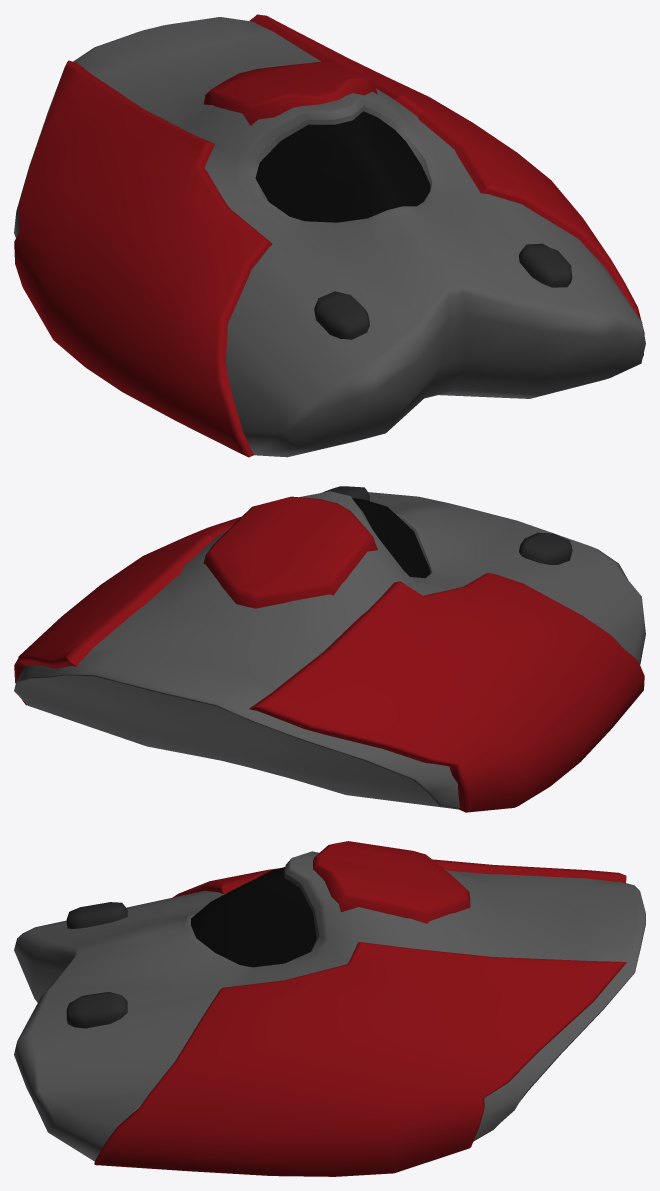
Rendered from Ship_enemy_09_Hull.fbx.
The picture shows the model from 3 angles, top to bottom: view 1: azimuth 30°, elevation 25°; view 2: azimuth 150°, elevation 25°; view 3: azimuth 270°, elevation 25°; orthographic projection. The views are drawn at different scales.
Parts seen in each view (by area): view 1: Ship_enemy_09_Hull; view 2: Ship_enemy_09_Hull; view 3: Ship_enemy_09_Hull.
Boxes of the visible parts, left/top/right/bottom form: Ship_enemy_09_Hull: left=14, top=14, right=645, bottom=457; Ship_enemy_09_Hull: left=14, top=486, right=645, bottom=812; Ship_enemy_09_Hull: left=14, top=841, right=645, bottom=1176.
Bounding box in the file's own units: 369 × 180 × 449.
